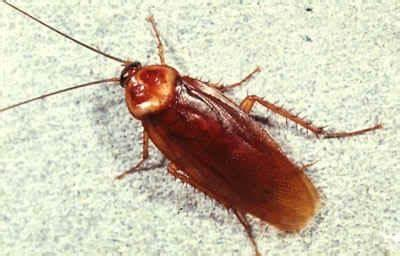cockroach: (113, 48, 323, 238)
